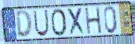0: (103, 5, 118, 35)
D: (15, 10, 34, 40)
H: (84, 7, 104, 36)
O: (50, 7, 69, 37)
U: (33, 9, 50, 38)
X: (66, 7, 87, 37)
